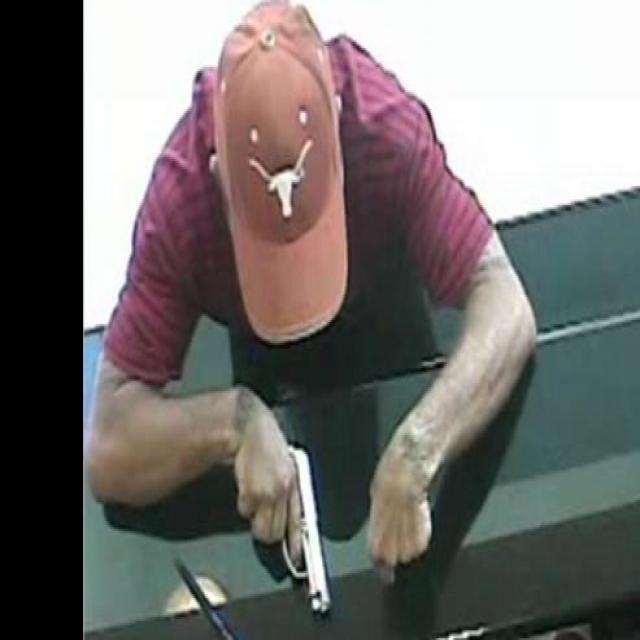weapon: (279, 443, 335, 619)
